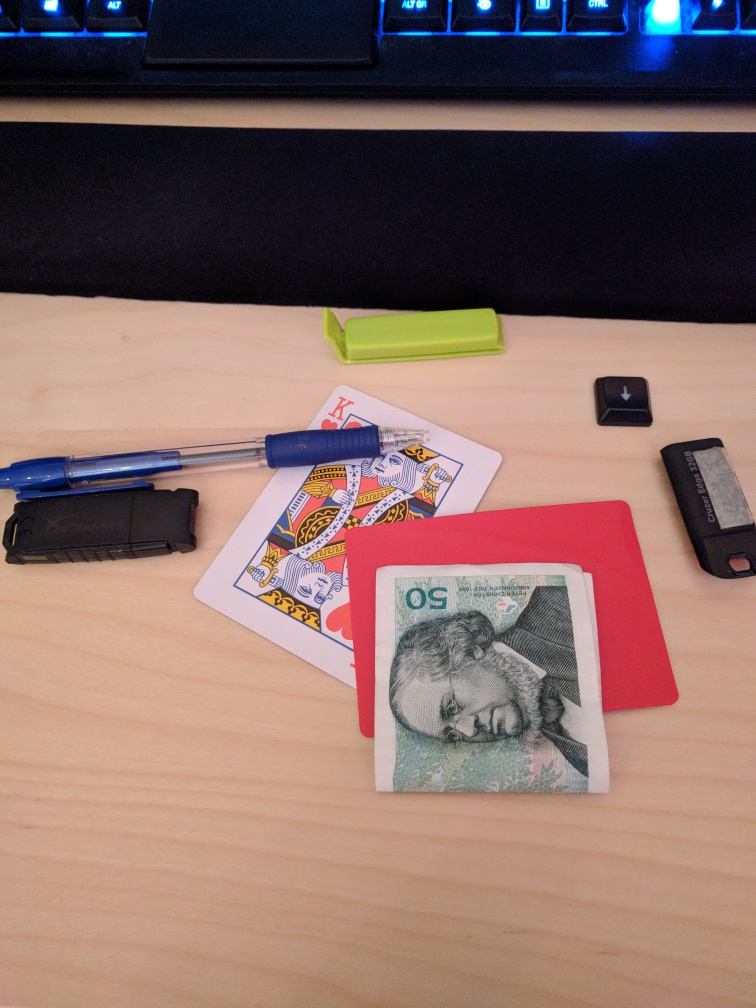king: (194, 384, 503, 693)
